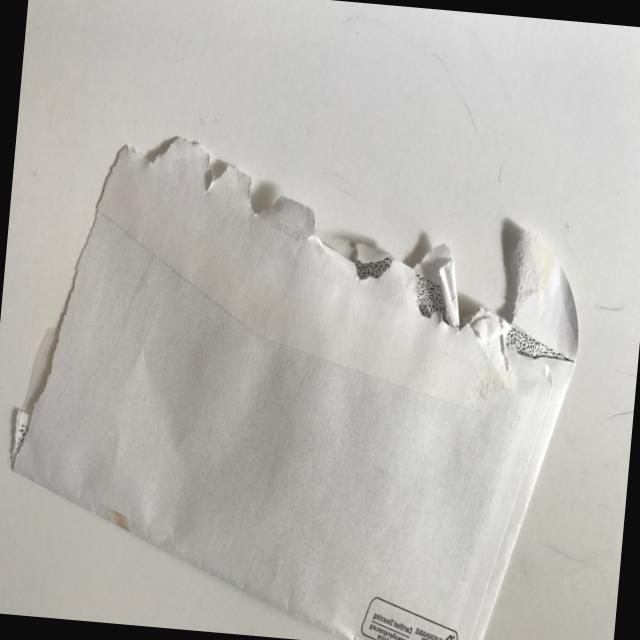Paper: (0, 105, 610, 640)
